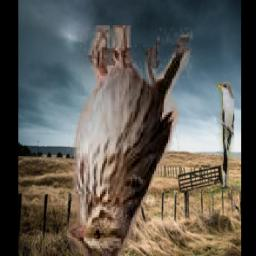Cuckoo: (217, 82, 235, 187)
Sparrow: (67, 26, 192, 256)
